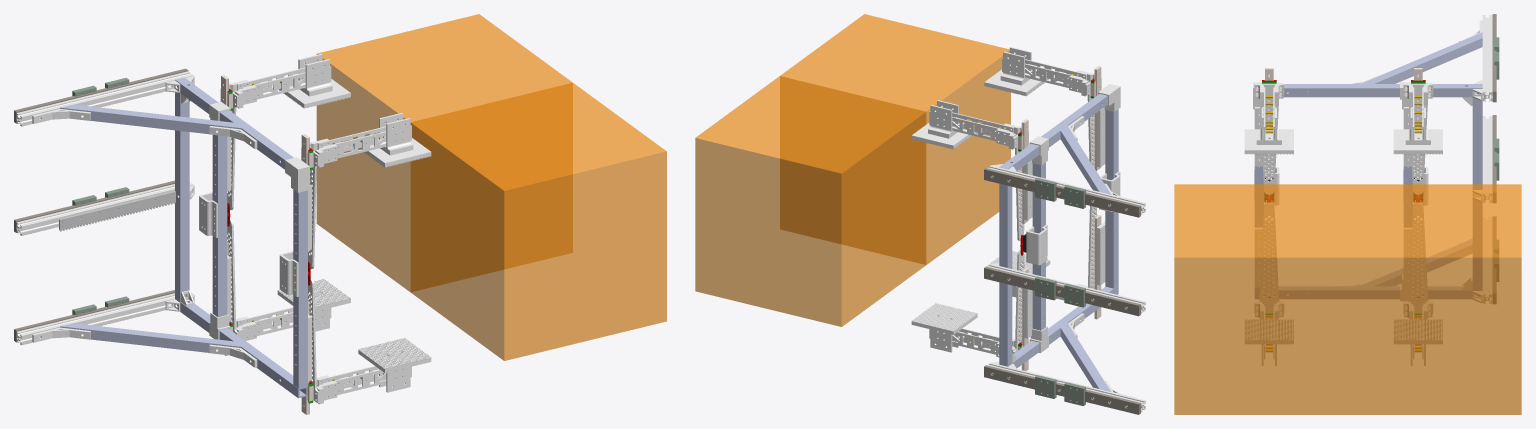
File: 1793453752693-asset_831dd9c69082.glb
The picture shows the model from 3 angles, left to right: view 1: azimuth 30°, elevation 25°; view 2: azimuth 150°, elevation 25°; view 3: azimuth 270°, elevation 25°; orthographic projection. The views are drawn at different scales.
Visible parts, largest first — view 1: 350mm正方体瓦楞盒-2, 350mm正方体瓦楞盒-1, 250mm横梁(中上）-2, 250mm横梁-4, 250mm横梁(中上）-1, 夹持部分-1 (×2), 臂爪转接件-2 (×2), 斜铝管-1, 斜铝管-2, 2020铝型材-1, 2020铝型材-2, 360mm竖梁-3 (+13 smaller); view 2: 350mm正方体瓦楞盒-1, 350mm正方体瓦楞盒-2, 250mm横梁-4, 250mm横梁(中上）-2, 臂爪转接件-2 (×2), MGW12滑轨-1, MGW12滑轨-3, MGW12滑轨-2, 夹持部分-2 (×2), 360mm竖梁-4, 250mm横梁(中上）-1, 夹持部分-1 (+22 smaller); view 3: 350mm正方体瓦楞盒-1, 350mm正方体瓦楞盒-2, 连杆-4 (×2), 夹持部分-1 (×2), 360mm竖梁-4, 360mm竖梁-3, 连杆-3 (×2), 250mm横梁-4, 夹持部分-2 (×2), 斜铝管-2, 斜铝管-1, 臂爪转接件-2 (×2) (+8 smaller).
Part boxes in pixels (x1,y1,x2,y2): 350mm正方体瓦楞盒-2: [410, 83, 666, 360]; 350mm正方体瓦楞盒-1: [316, 14, 572, 292]; 250mm横梁(中上）-2: [293, 190, 307, 388]; 250mm横梁-4: [175, 92, 189, 301]; 250mm横梁(中上）-1: [212, 135, 227, 317]; 夹持部分-1 (×2): [277, 279, 431, 372]; 臂爪转接件-2 (×2): [298, 54, 413, 155]; 斜铝管-1: [60, 323, 241, 352]; 斜铝管-2: [60, 104, 241, 134]; 2020铝型材-1: [16, 71, 193, 126]; 2020铝型材-2: [16, 292, 193, 345]; 360mm竖梁-3: [175, 298, 307, 398]; 350mm正方体瓦楞盒-1: [695, 76, 926, 326]; 350mm正方体瓦楞盒-2: [780, 14, 1010, 264]; 250mm横梁-4: [999, 183, 1012, 366]; 250mm横梁(中上）-2: [1105, 109, 1118, 288]; 臂爪转接件-2 (×2): [928, 47, 1031, 138]; MGW12滑轨-1: [984, 365, 1140, 414]; MGW12滑轨-3: [984, 168, 1140, 217]; MGW12滑轨-2: [984, 266, 1140, 316]; 夹持部分-2 (×2): [911, 69, 1049, 149]; 360mm竖梁-4: [999, 94, 1107, 170]; 250mm横梁(中上）-1: [1032, 162, 1045, 330]; 夹持部分-1: [911, 303, 977, 334]; 350mm正方体瓦楞盒-1: [1348, 184, 1521, 414]; 350mm正方体瓦楞盒-2: [1174, 184, 1347, 414]; 连杆-4 (×2): [1254, 203, 1430, 313]; 夹持部分-1 (×2): [1245, 319, 1442, 343]; 360mm竖梁-4: [1283, 84, 1482, 97]; 360mm竖梁-3: [1255, 286, 1482, 298]; 连杆-3 (×2): [1254, 83, 1433, 194]; 250mm横梁-4: [1472, 97, 1482, 289]; 夹持部分-2 (×2): [1244, 129, 1442, 154]; 斜铝管-2: [1360, 32, 1482, 83]; 斜铝管-1: [1361, 239, 1472, 285]; 臂爪转接件-2 (×2): [1256, 107, 1430, 144].
Bounding box in the file's own units: 1.03 × 0.5693 × 0.7.
